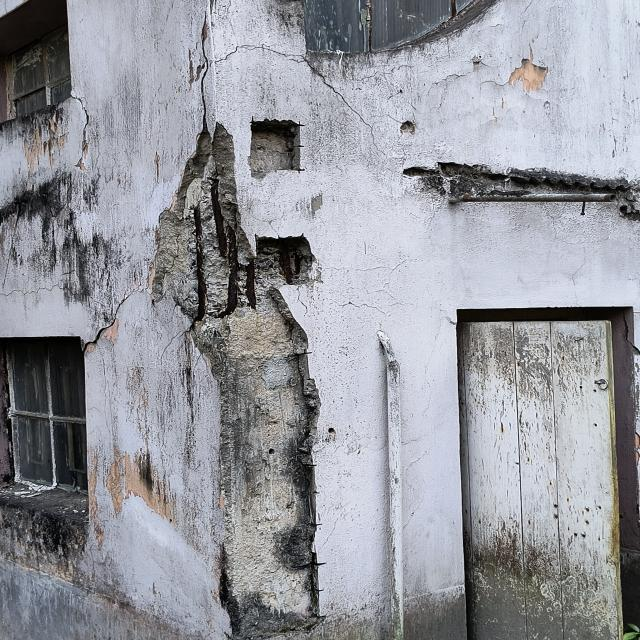Crack: (214, 43, 388, 155), (81, 290, 133, 354), (0, 283, 108, 309), (71, 95, 92, 169), (199, 8, 211, 128)
Paint Peeling: (103, 447, 174, 521), (509, 50, 548, 92), (89, 448, 104, 547)
Scaling: (403, 162, 640, 220)
Spalling: (152, 123, 317, 640)
pollution -moisture induced blackening: (0, 171, 144, 341), (0, 481, 90, 590), (20, 111, 70, 178)
